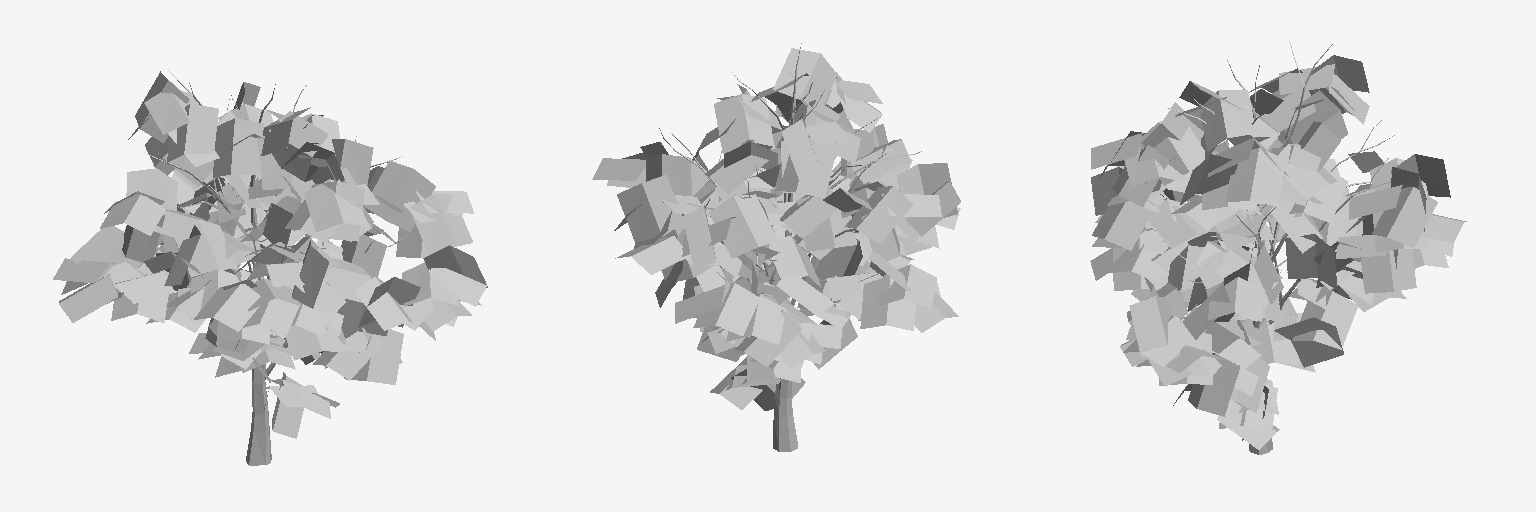
Rendered from tree2a_lod1.obj.
3 views of the same model, side by side, from view 1: azimuth 30°, elevation 25°; view 2: azimuth 150°, elevation 25°; view 3: azimuth 270°, elevation 25° (orthographic).
Parts seen in each view (by area): view 1: leaves 0.0 0.[number redacted] 0.0 0 0 0 0.[number redacted] 0.[number redacted], bark 0.[number redacted] -0.[number redacted] 0.[number redacted] ; view 2: leaves 0.0 0.[number redacted] 0.0 0 0 0 0.[number redacted] 0.[number redacted], bark 0.[number redacted] -0.[number redacted] 0.[number redacted] ; view 3: leaves 0.0 0.[number redacted] 0.0 0 0 0 0.[number redacted] 0.[number redacted], bark 0.[number redacted] -0.[number redacted] 0.[number redacted] .
Part boxes in pixels (x1,y1,x2,y2): leaves 0.0 0.[number redacted] 0.0 0 0 0 0.[number redacted] 0.[number redacted]: (53, 71, 487, 438); bark 0.[number redacted] -0.[number redacted] 0.[number redacted] : (144, 69, 408, 465); leaves 0.0 0.[number redacted] 0.0 0 0 0 0.[number redacted] 0.[number redacted]: (592, 48, 960, 410); bark 0.[number redacted] -0.[number redacted] 0.[number redacted] : (659, 43, 921, 451); leaves 0.0 0.[number redacted] 0.0 0 0 0 0.[number redacted] 0.[number redacted]: (1090, 55, 1466, 449); bark 0.[number redacted] -0.[number redacted] 0.[number redacted] : (1166, 41, 1394, 454).
Bounding box in the file's own units: 1 × 1 × 0.875.